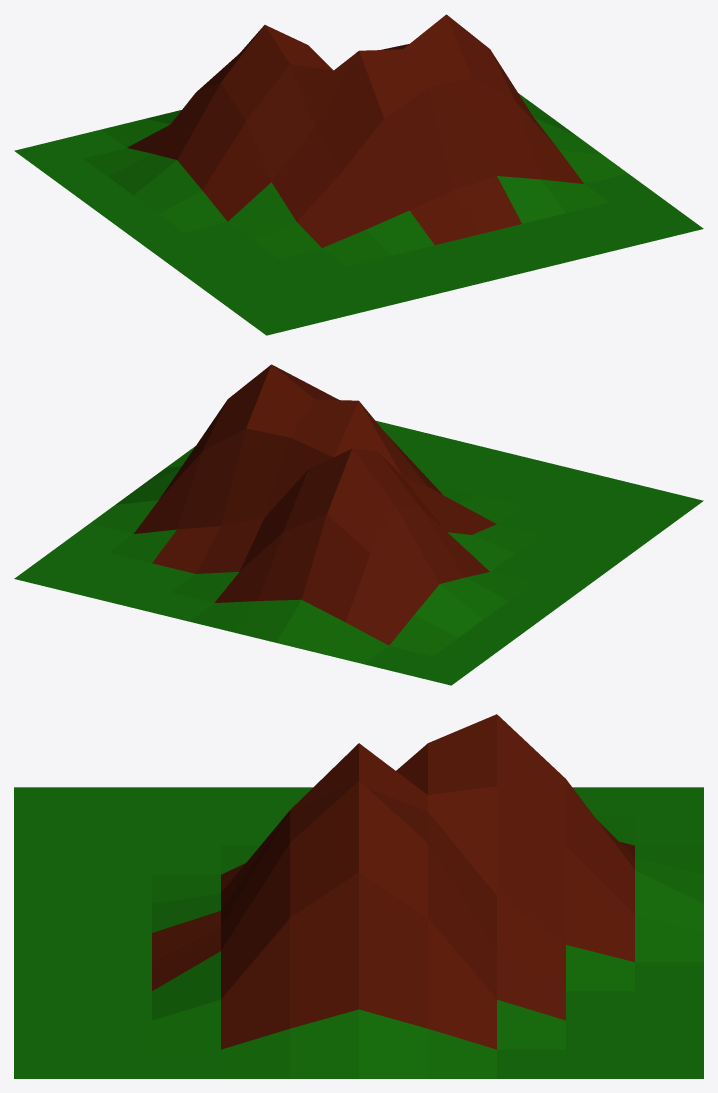
The model's file is Lanscape02.FBX.
3 renders of one model, top to bottom at view 1: azimuth 30°, elevation 25°; view 2: azimuth 150°, elevation 25°; view 3: azimuth 270°, elevation 25°, orthographic. The views are drawn at different scales.
Parts seen in each view (by area): view 1: Plane002; view 2: Plane002; view 3: Plane002.
Part boxes in pixels (box(x1,y1,x2,y2)): Plane002: box(14, 14, 703, 335); Plane002: box(14, 364, 703, 685); Plane002: box(14, 714, 703, 1078).
Size of the model in its own units: 130 by 43.78 by 130.
